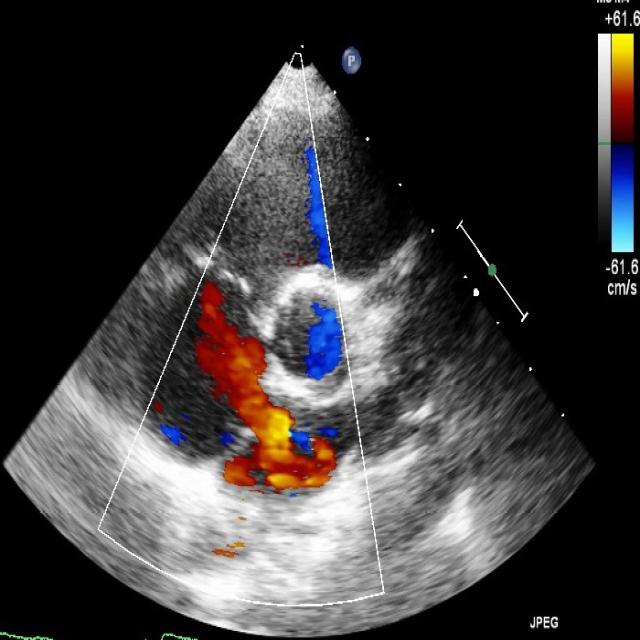ASDType2: (221, 368, 296, 498)
